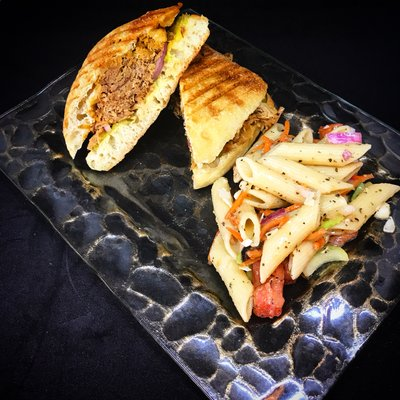soup: (178, 47, 282, 190)
